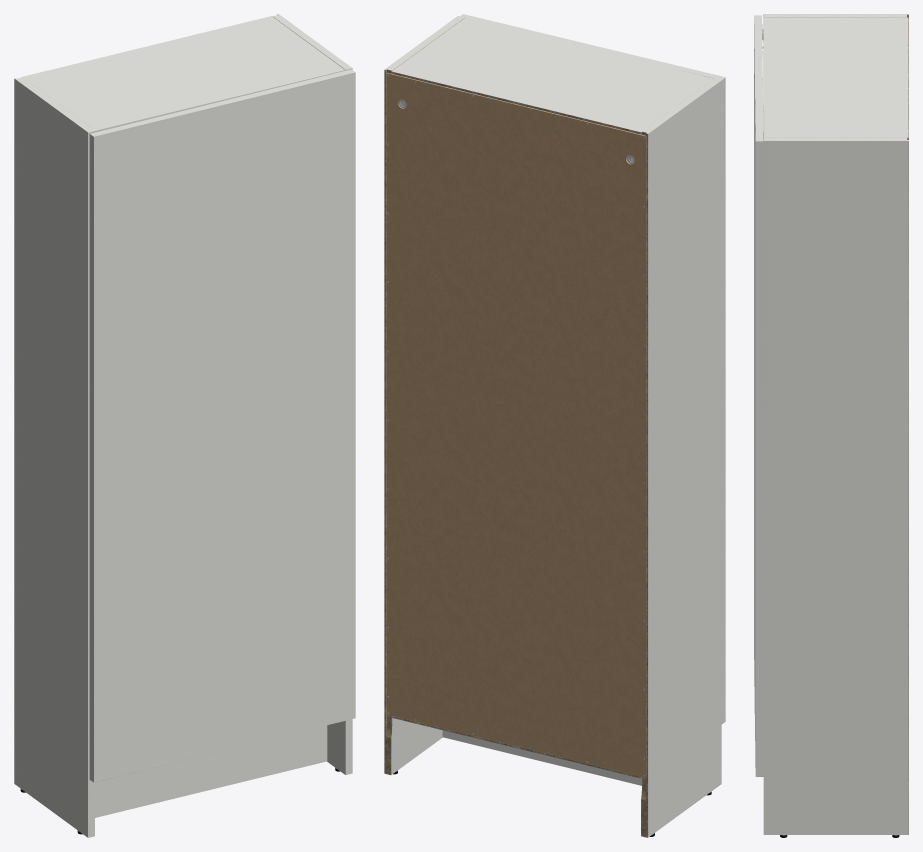
File: knoxhult_szafka_wysoka_drzwi_40604079.glb
3 renders of one model, left to right at view 1: azimuth 30°, elevation 25°; view 2: azimuth 150°, elevation 25°; view 3: azimuth 270°, elevation 25°, orthographic.
Visible parts, largest first — view 1: knoxhult_szafka_wysoka_drzwi_40604079; view 2: knoxhult_szafka_wysoka_drzwi_40604079; view 3: knoxhult_szafka_wysoka_drzwi_40604079.
Part boxes in pixels (left/top/right/bottom): knoxhult_szafka_wysoka_drzwi_40604079: left=14, top=14, right=355, bottom=837; knoxhult_szafka_wysoka_drzwi_40604079: left=384, top=14, right=725, bottom=837; knoxhult_szafka_wysoka_drzwi_40604079: left=754, top=14, right=908, bottom=837.
Size of the model in its own units: 0.6 by 1.54 by 0.3094.
2 materials, 2 textured.
